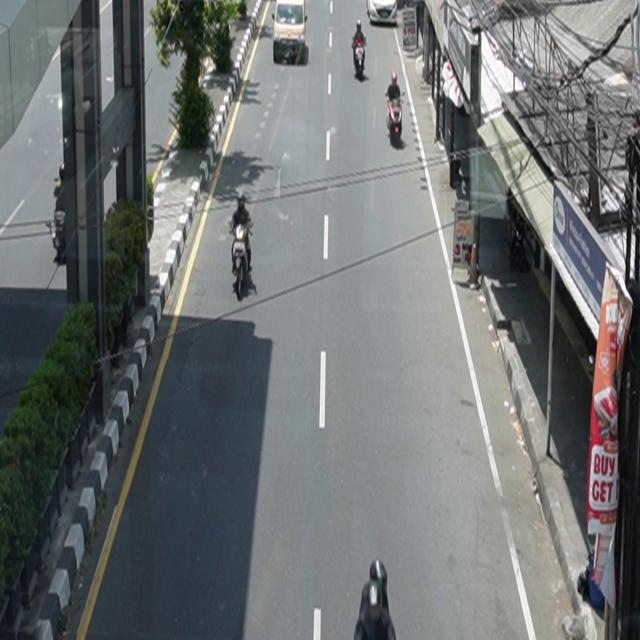car: (272, 1, 309, 65), (366, 1, 398, 26)
